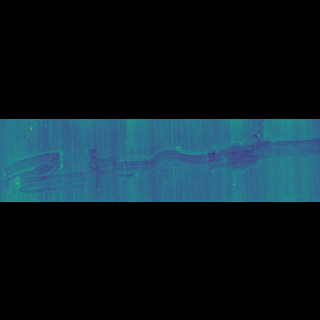Loch: (86, 153, 319, 164), (1, 156, 101, 169)
